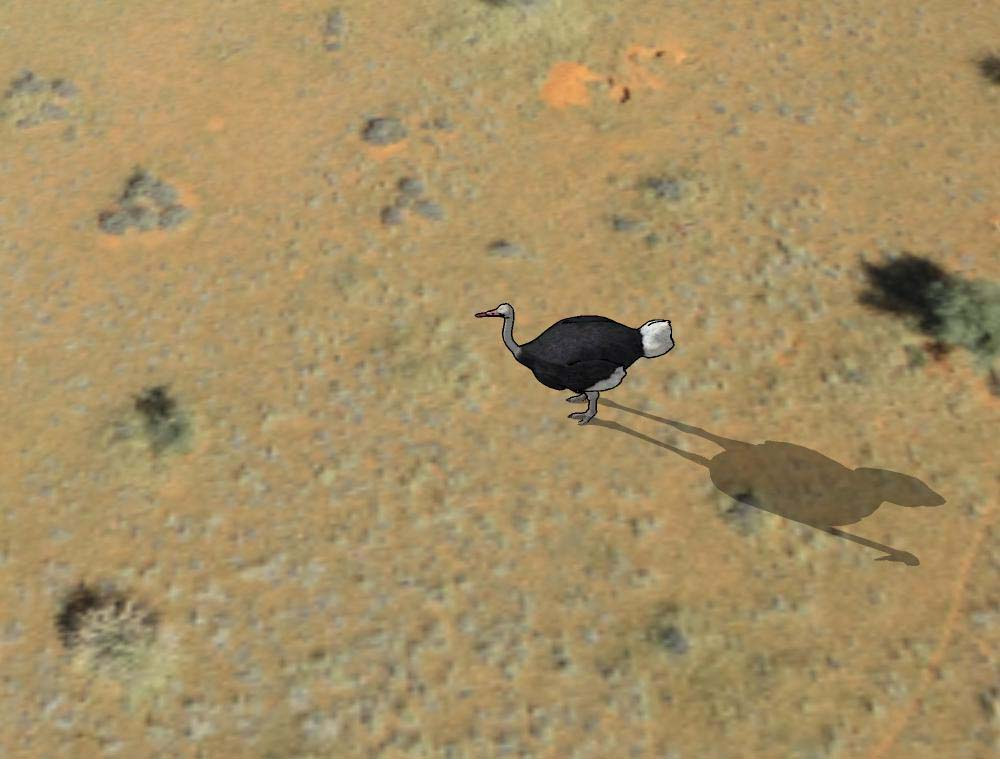ostrich: (472, 286, 682, 431)
